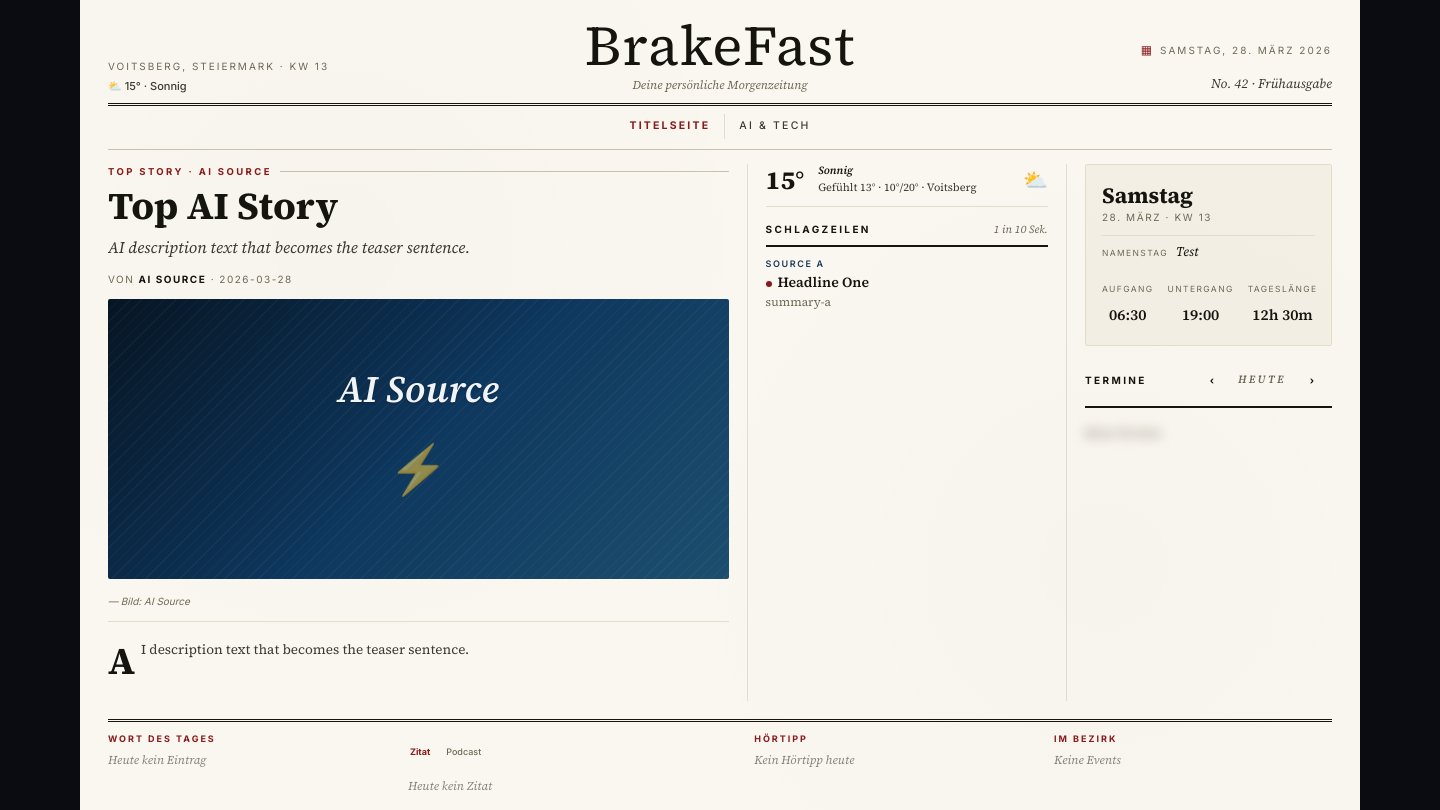
it: EditorialFirstScreen › opens DetailModal when a Schlagzeile is clicked (A11Y-01 focus trap path)
Click the button "Source A Headline One summary-a" at x=817, y=284, box [766,258,869,310]
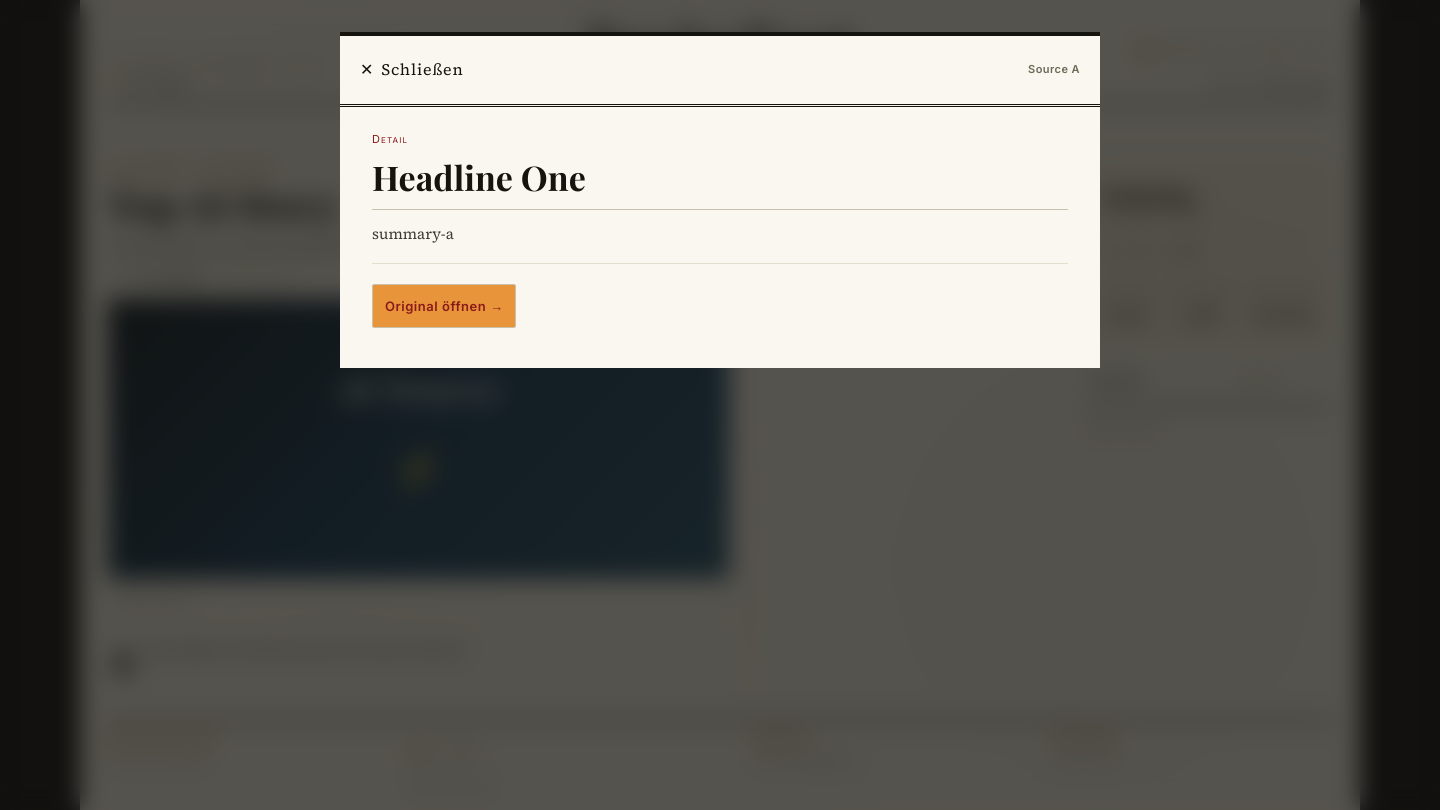
Expected: the element with class "modal-content" is shown, [340,32,1100,368]
